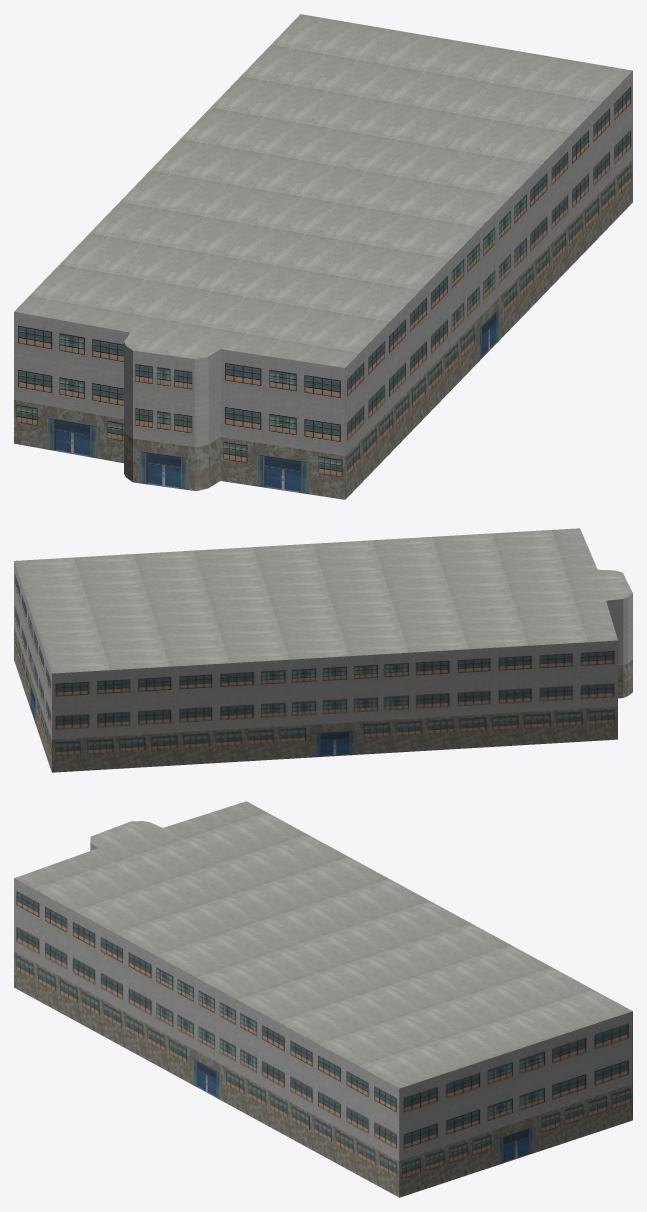
3 views of the same model, one above another, from view 1: azimuth 30°, elevation 25°; view 2: azimuth 150°, elevation 25°; view 3: azimuth 270°, elevation 25° (orthographic). The views are drawn at different scales.
Visible parts, largest first — view 1: BuildingMaster_1986194646444464032500000000_1, BuildingMaster_1986194646444464032500000000_0; view 2: BuildingMaster_1986194646444464032500000000_1, BuildingMaster_1986194646444464032500000000_0; view 3: BuildingMaster_1986194646444464032500000000_1, BuildingMaster_1986194646444464032500000000_0.
Part boxes in pixels (x1=…): BuildingMaster_1986194646444464032500000000_1: x1=14, y1=14, x2=632, y2=367; BuildingMaster_1986194646444464032500000000_0: x1=14, y1=71, x2=632, y2=499; BuildingMaster_1986194646444464032500000000_1: x1=14, y1=528, x2=632, y2=673; BuildingMaster_1986194646444464032500000000_0: x1=14, y1=561, x2=632, y2=772; BuildingMaster_1986194646444464032500000000_1: x1=14, y1=801, x2=632, y2=1088; BuildingMaster_1986194646444464032500000000_0: x1=14, y1=842, x2=632, y2=1197.
Bounding box in the file's own units: 59.28 × 10.5 × 53.96.
Materials: 2 (2 with a texture image).
